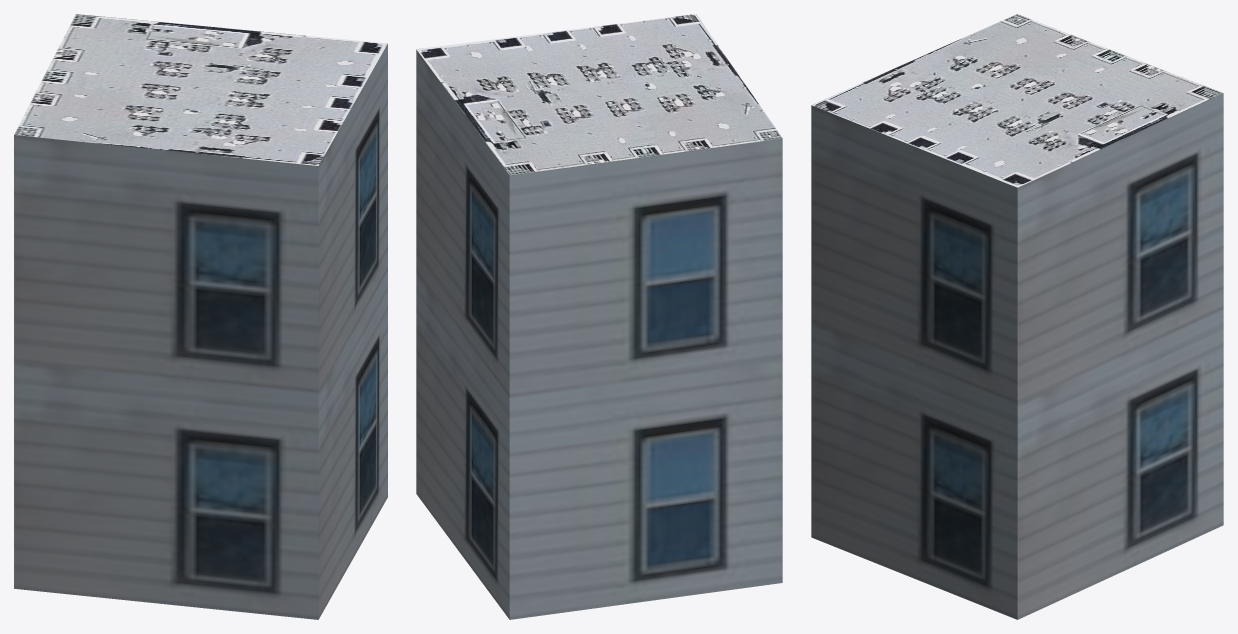
The model's file is ResTex__1712.fbx.
3 views of the same model, side by side, from view 1: azimuth 30°, elevation 25°; view 2: azimuth 150°, elevation 25°; view 3: azimuth 270°, elevation 25° (orthographic). The views are drawn at different scales.
Visible parts, largest first — view 1: CityEngineMaterial_18_m, CityEngineMaterial_m; view 2: CityEngineMaterial_18_m, CityEngineMaterial_m; view 3: CityEngineMaterial_18_m, CityEngineMaterial_m.
Boxes of the visible parts, x1,y1,x2,y2 form: CityEngineMaterial_18_m: (14, 44, 387, 619); CityEngineMaterial_m: (14, 14, 387, 165); CityEngineMaterial_18_m: (416, 50, 782, 619); CityEngineMaterial_m: (416, 14, 782, 175); CityEngineMaterial_18_m: (811, 93, 1223, 619); CityEngineMaterial_m: (812, 14, 1223, 187).
Size of the model in its own units: 5.18 by 6 by 5.19.
Materials: 2 (2 with a texture image).
